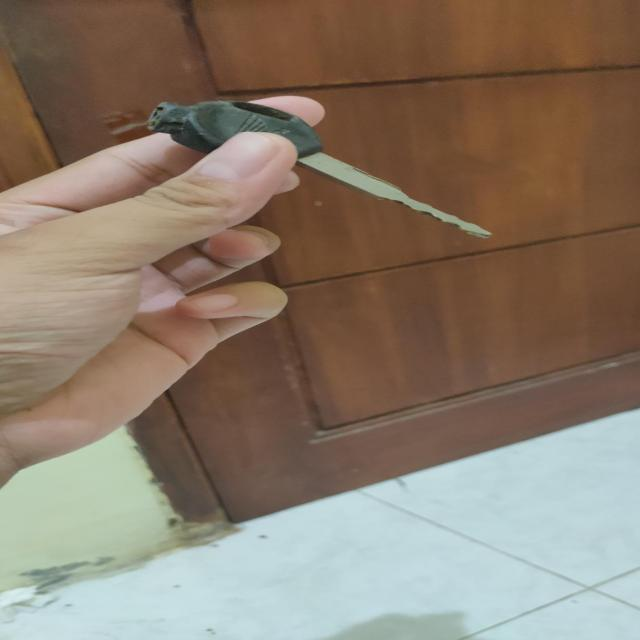kunci_motor: (106, 84, 516, 246)
